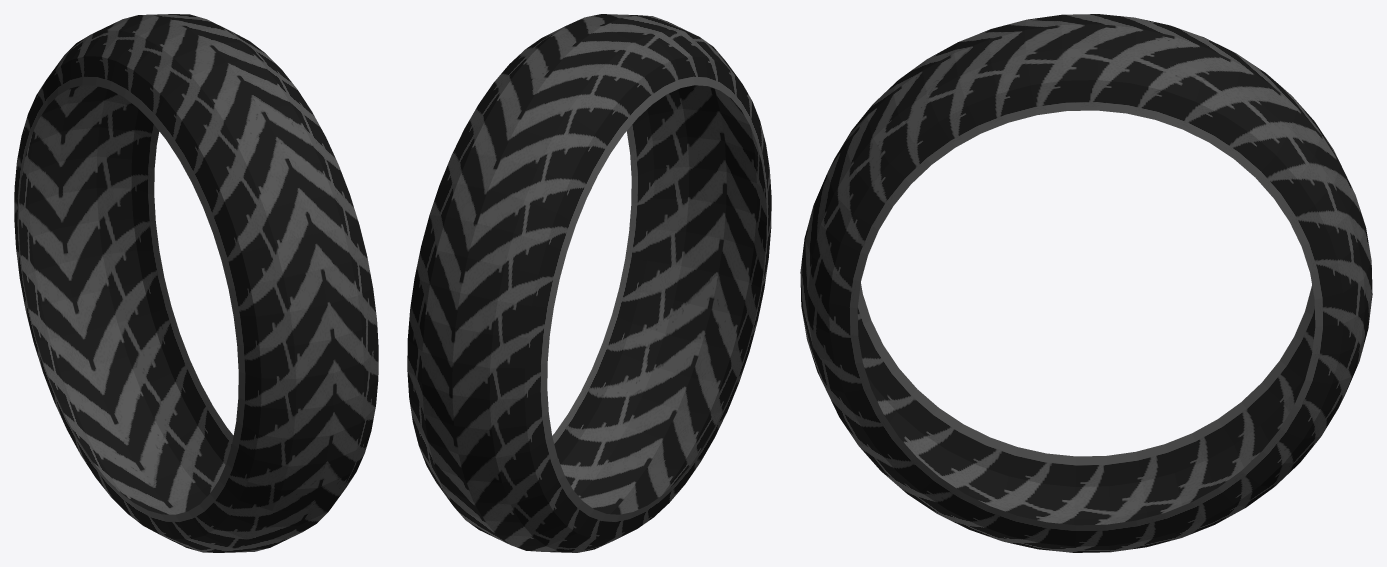
The model's file is MeowmixWheel.obj.
3 renders of one model, left to right at view 1: azimuth 30°, elevation 25°; view 2: azimuth 150°, elevation 25°; view 3: azimuth 270°, elevation 25°, orthographic. The views are drawn at different scales.
Parts seen in each view (by area): view 1: Cylinder.000; view 2: Cylinder.000; view 3: Cylinder.000.
Boxes of the visible parts, left/top/right/bottom form: Cylinder.000: left=14, top=14, right=378, bottom=552; Cylinder.000: left=407, top=14, right=771, bottom=552; Cylinder.000: left=800, top=14, right=1372, bottom=552.
Size of the model in its own units: 0.711 by 2.5 by 2.5.
Materials: 1 (1 with a texture image).
